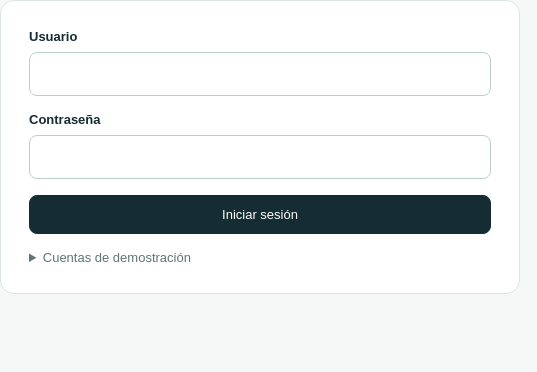
Scenario: LoginForm › shows a clear error when credentials are rejected
The width and height of the screenshot is (537, 372).
Step 1. Type "demo.user1" into the field labelled "Usuario" → (260,74), box [29,52,491,96]
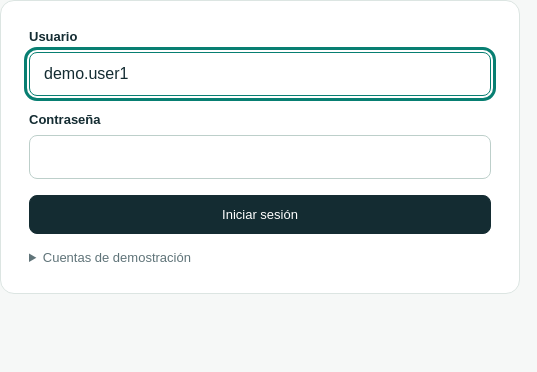
Step 2. Type "WrongPass!2026" into the password field labelled "Contraseña" → (260,157), box [29,135,491,179]
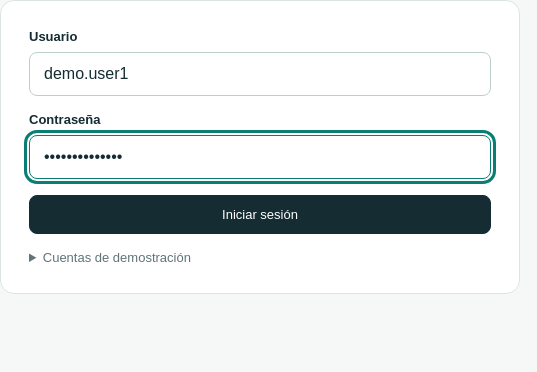
Step 3. Click the button "Iniciar sesión" → (260,214), box [29,195,491,234]
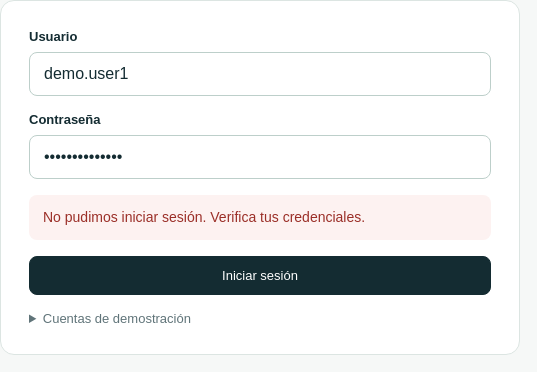
Result: the message reads "No pudimos iniciar sesión. Verifica tus credenciales." at [43,209,365,225]
